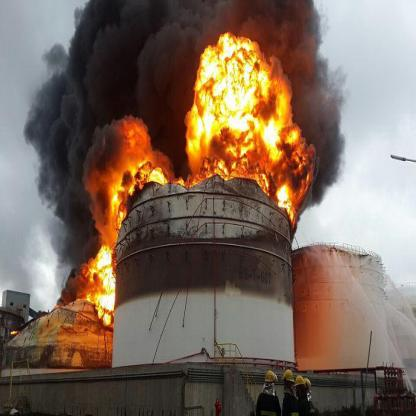fire: (179, 22, 320, 241), (100, 112, 172, 222), (77, 231, 117, 332)
